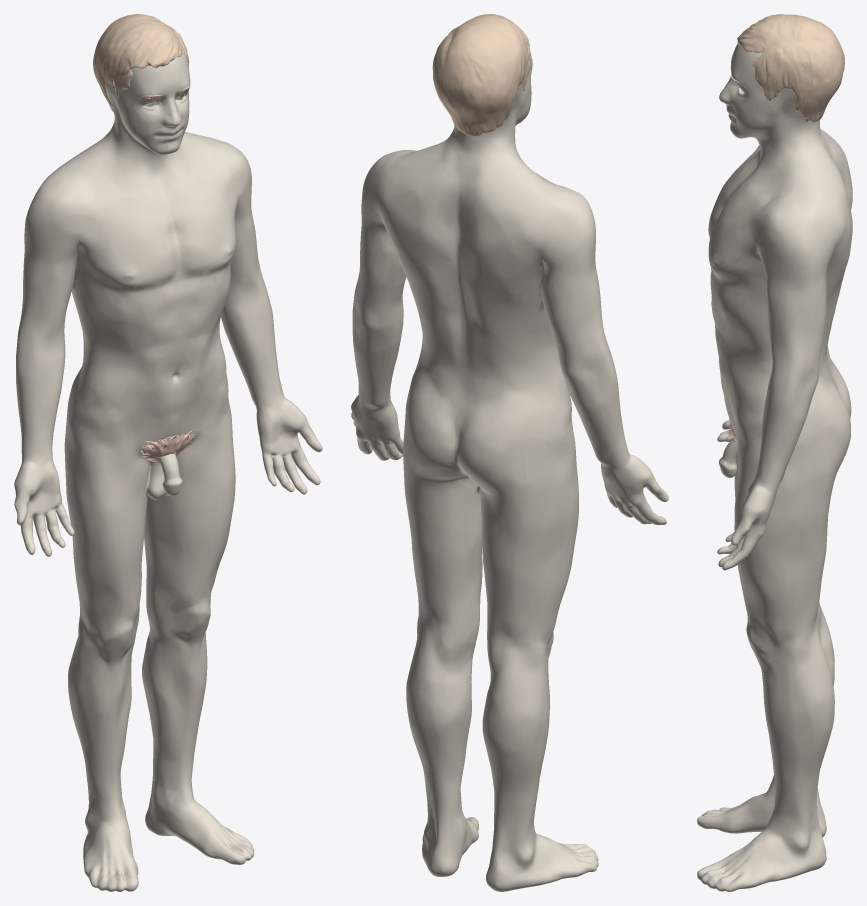
The model's file is body-skin.lod1.glb.
3 renders of one model, left to right at view 1: azimuth 30°, elevation 25°; view 2: azimuth 150°, elevation 25°; view 3: azimuth 270°, elevation 25°, orthographic. The views are drawn at different scales.
Visible parts, largest first — view 1: skin, hair-of-head, pubic-hair; view 2: skin, hair-of-head; view 3: skin, hair-of-head.
Part boxes in pixels (bbox=[...]): skin: bbox=[14, 47, 322, 891]; hair-of-head: bbox=[93, 14, 189, 111]; pubic-hair: bbox=[140, 429, 195, 461]; skin: bbox=[351, 53, 668, 891]; hair-of-head: bbox=[432, 14, 530, 135]; skin: bbox=[697, 44, 852, 891]; hair-of-head: bbox=[737, 14, 844, 122].
Size of the model in its own units: 0.6669 by 1.73 by 0.292.
